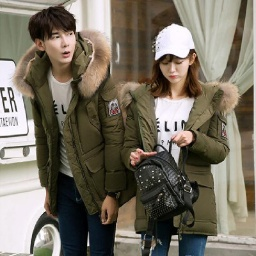face: (29, 5, 79, 66), (148, 47, 204, 95)
